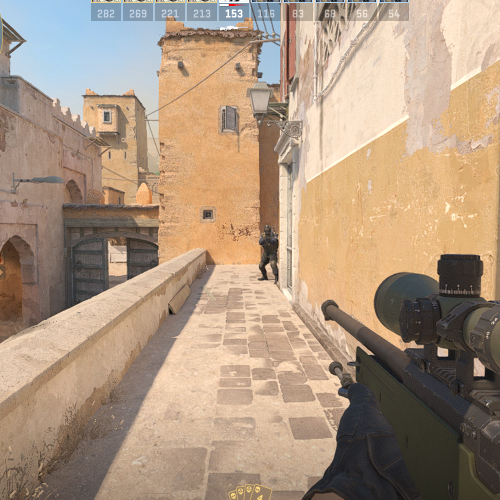ct_body: (259, 225, 279, 284)
ct_head: (263, 225, 272, 236)
